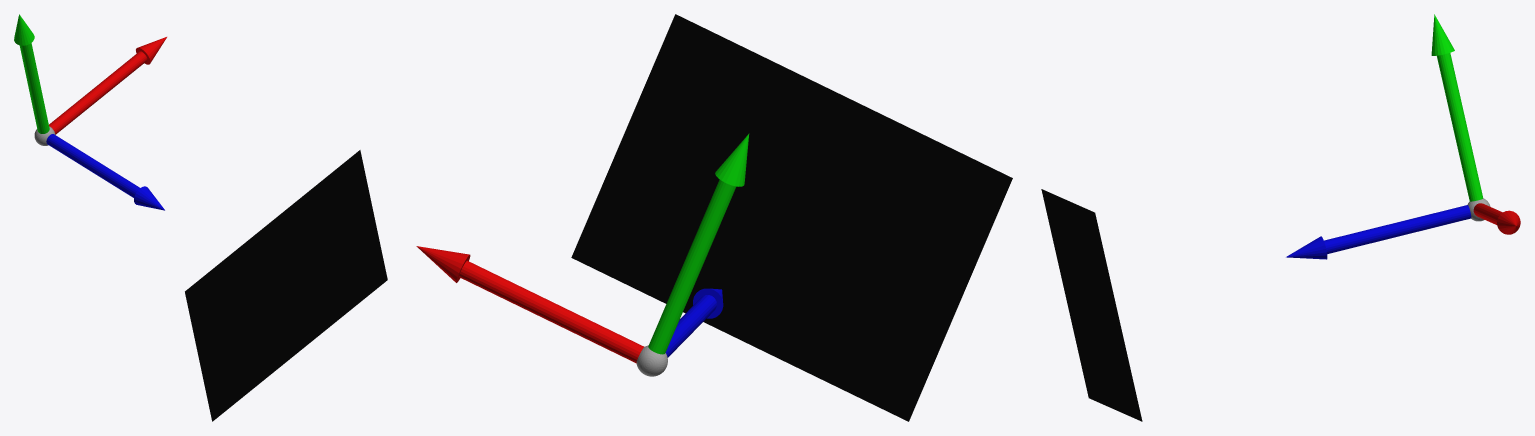
The picture shows the model from 3 angles, left to right: view 1: azimuth 30°, elevation 25°; view 2: azimuth 150°, elevation 25°; view 3: azimuth 270°, elevation 25°; orthographic projection. The views are drawn at different scales.
Bounding box in the file's own units: 0.2046 × 0.2454 × 0.2967.
